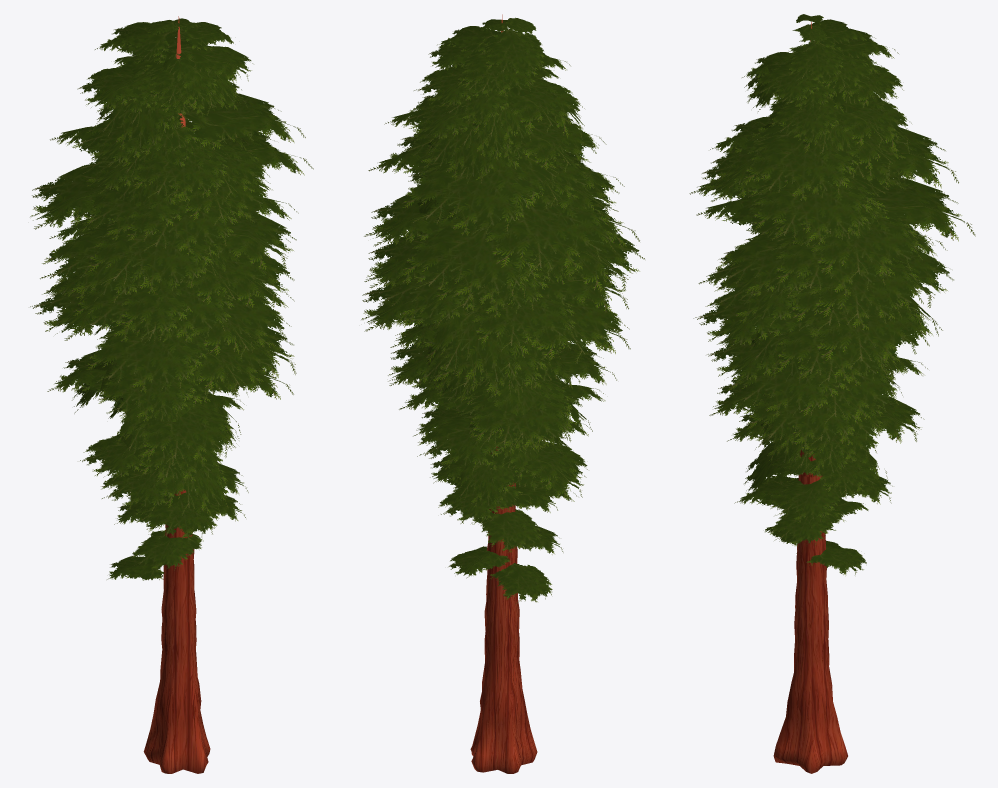
Rendered from sequoia_g2.gltf.
3 renders of one model, left to right at view 1: azimuth 30°, elevation 25°; view 2: azimuth 150°, elevation 25°; view 3: azimuth 270°, elevation 25°, orthographic.
Visible parts, largest first — view 1: sequoia_g2; view 2: sequoia_g2; view 3: sequoia_g2.
Part boxes in pixels (x1,y1,x2,y2): sequoia_g2: (30,16,313,773); sequoia_g2: (361,14,644,773); sequoia_g2: (689,14,975,773).
Bounding box in the file's own units: 10.62 × 28 × 10.42.
Materials: 2 (2 with a texture image).
